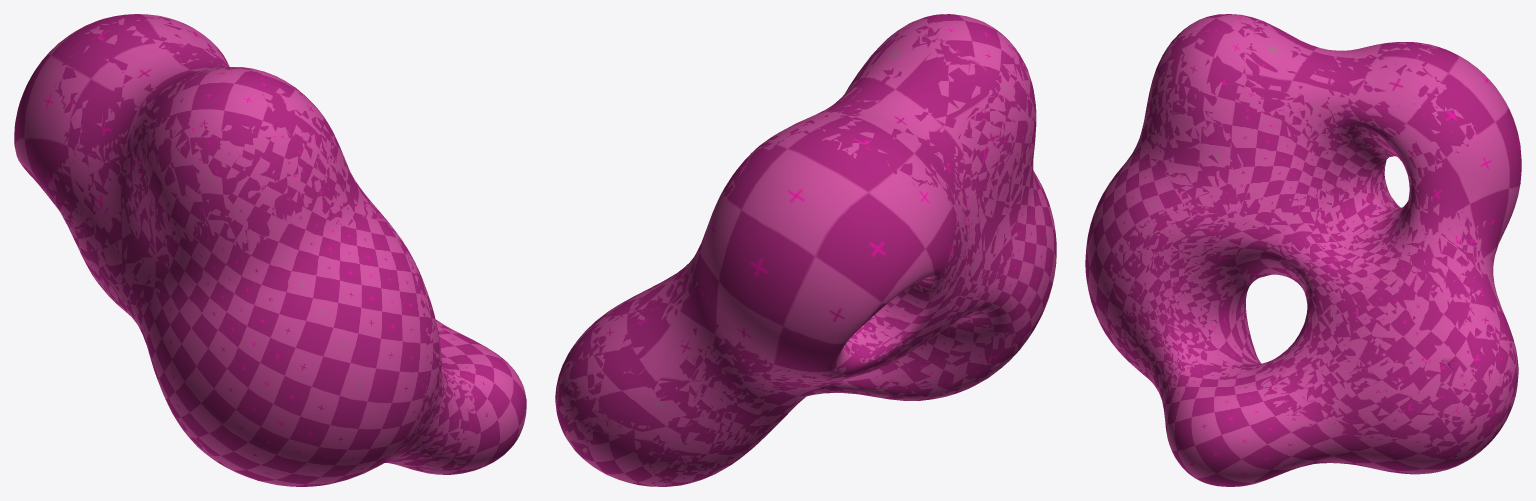
The model's file is manifold.glb.
3 views of the same model, side by side, from view 1: azimuth 30°, elevation 25°; view 2: azimuth 150°, elevation 25°; view 3: azimuth 270°, elevation 25° (orthographic). The views are drawn at different scales.
Visible parts, largest first — view 1: chart.08, chart.05, chart.07, chart.06, chart.04, chart.01; view 2: chart.05, chart.09, chart.08, chart.07, chart.06, chart.10, chart.04, chart.03; view 3: chart.04, chart.05, chart.06, chart.03, chart.08, chart.02, chart.09, chart.07, chart.01.
Part boxes in pixels (x1,y1,x2,y2): chart.08: (82, 115, 475, 486); chart.05: (14, 14, 255, 233); chart.07: (53, 16, 335, 254); chart.06: (48, 64, 388, 320); chart.04: (372, 321, 526, 474); chart.01: (381, 213, 460, 435); chart.05: (618, 29, 1005, 400); chart.09: (555, 261, 1027, 470); chart.08: (820, 34, 1056, 400); chart.07: (719, 14, 1035, 327); chart.06: (841, 14, 1023, 359); chart.10: (647, 327, 947, 486); chart.04: (555, 344, 851, 486); chart.03: (555, 246, 891, 456); chart.04: (1120, 307, 1518, 486); chart.05: (1242, 19, 1521, 333); chart.06: (1146, 22, 1401, 289); chart.03: (1271, 152, 1517, 459); chart.08: (1085, 33, 1257, 411); chart.02: (1181, 171, 1405, 417); chart.09: (1170, 208, 1518, 422); chart.07: (1145, 14, 1477, 212); chart.01: (1104, 202, 1241, 376).
Size of the model in its own units: 13.23 by 15.02 by 15.92.
2 materials, 1 textured.
